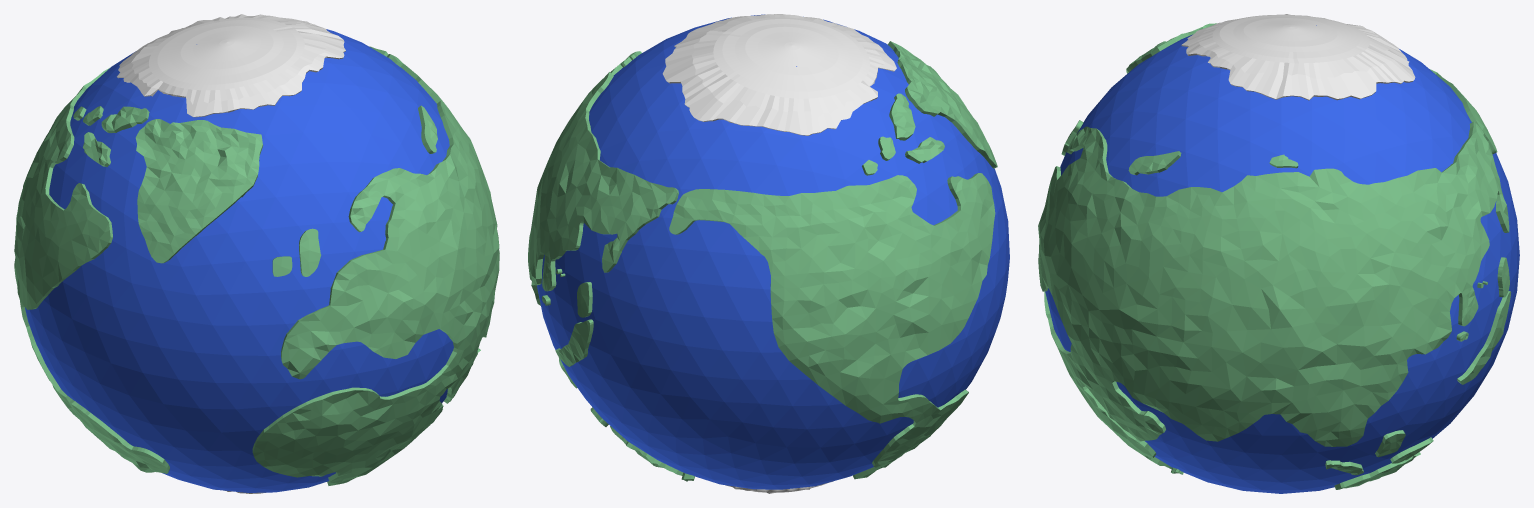
The model's file is earth.glb.
3 renders of one model, left to right at view 1: azimuth 30°, elevation 25°; view 2: azimuth 150°, elevation 25°; view 3: azimuth 270°, elevation 25°, orthographic.
Parts seen in each view (by area): view 1: Icosphere, map, south.001; view 2: Icosphere, map, south.001; view 3: map, Icosphere, south.001.
Part boxes in pixels (x1=…): Icosphere: x1=25, y1=29, x2=453, y2=492; map: x1=14, y1=46, x2=499, y2=485; south.001: x1=117, y1=14, x2=345, y2=117; Icosphere: x1=537, y1=14, x2=1009, y2=489; map: x1=528, y1=41, x2=997, y2=481; south.001: x1=662, y1=14, x2=896, y2=135; map: x1=1038, y1=23, x2=1511, y2=489; Icosphere: x1=1045, y1=25, x2=1519, y2=493; south.001: x1=1181, y1=14, x2=1415, y2=100.
Bounding box in the file's own units: 2.04 × 2.03 × 2.02.
